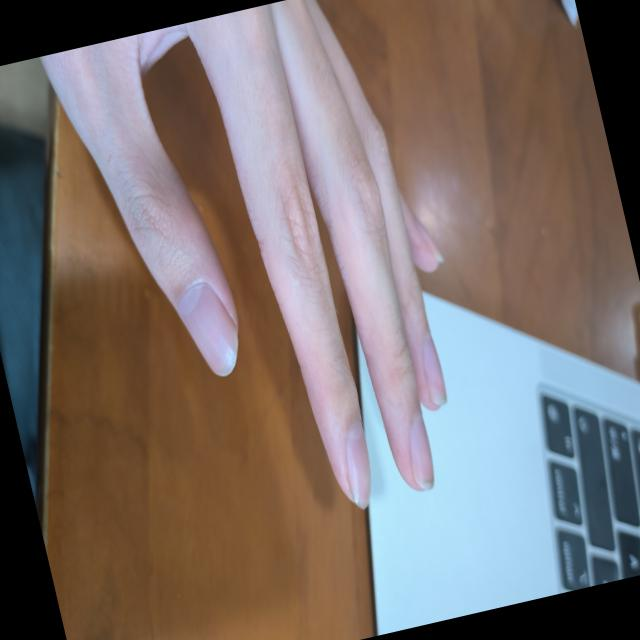Nail: (175, 280, 237, 378), (344, 420, 370, 508), (408, 415, 433, 490), (420, 333, 446, 405), (412, 213, 443, 262)
